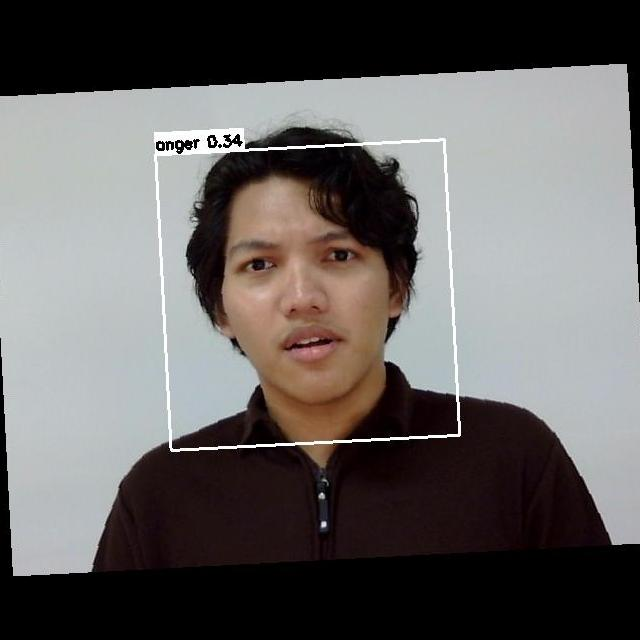Surprised: (209, 217, 410, 386)
